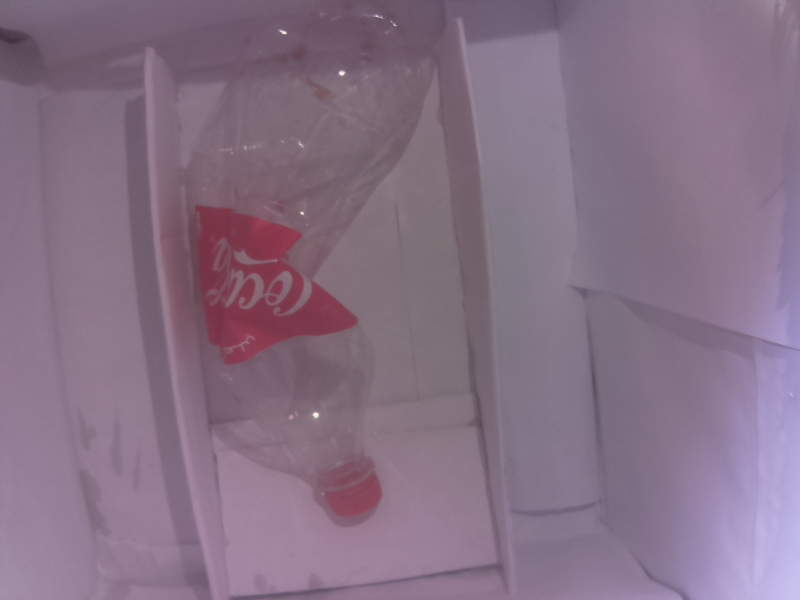botolplastik: (184, 1, 446, 518)
